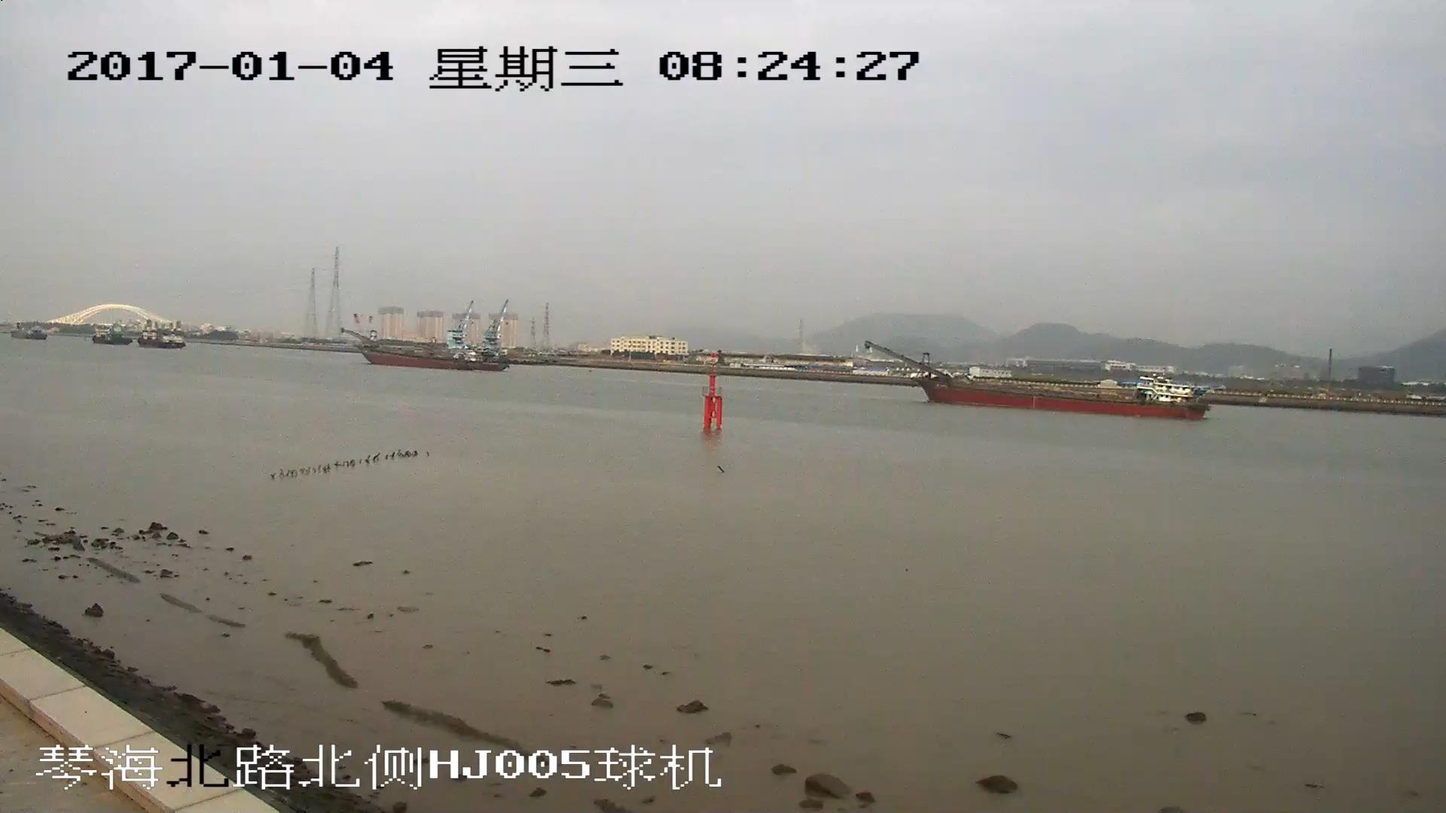bulk cargo carrier: (866, 340, 1206, 417), (341, 327, 508, 368)
